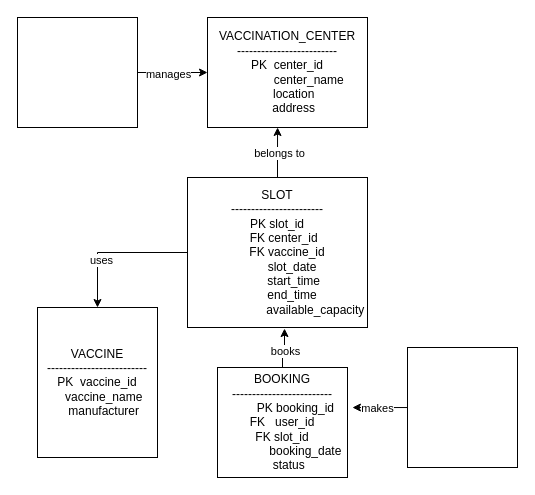
Image size: 535x495. Some labels were removed from this diagram. Each missing label, with the centre of its shape:
"ADMIN ------------------------- PK admin_id name email password" belongs at (x=77, y=72).
"USER ------------------------- PK user_id name email password phone" belongs at (x=462, y=407).
